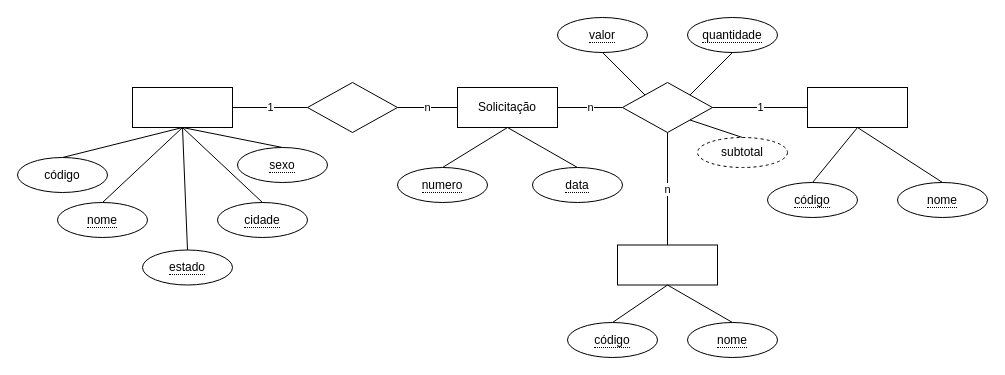
Some shapes in this 1005 by 375 pixel diagram are drawn without their labels. The shapes that lost their labels are listed below. From the top down, each one's centre as x and y in pixels, then its label:
(x=182, y=107): Funcionario
(x=352, y=107): Faz
(x=667, y=107): Contem
(x=857, y=107): departamento
(x=667, y=264): produtos
